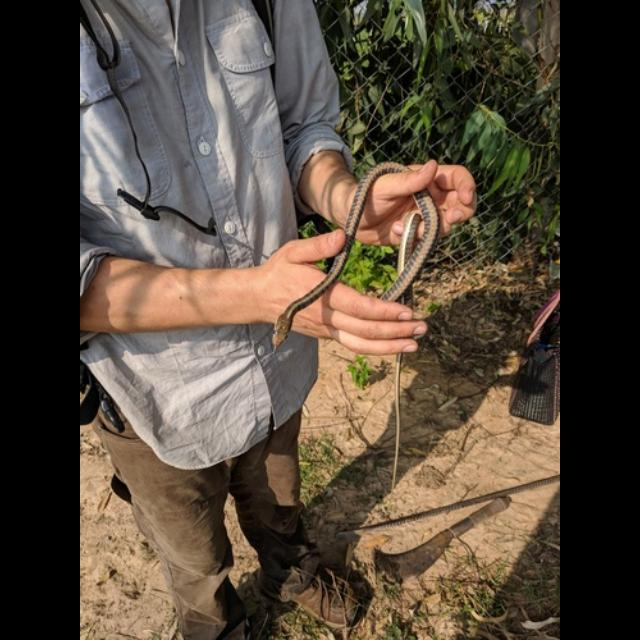snake: (272, 157, 446, 355)
